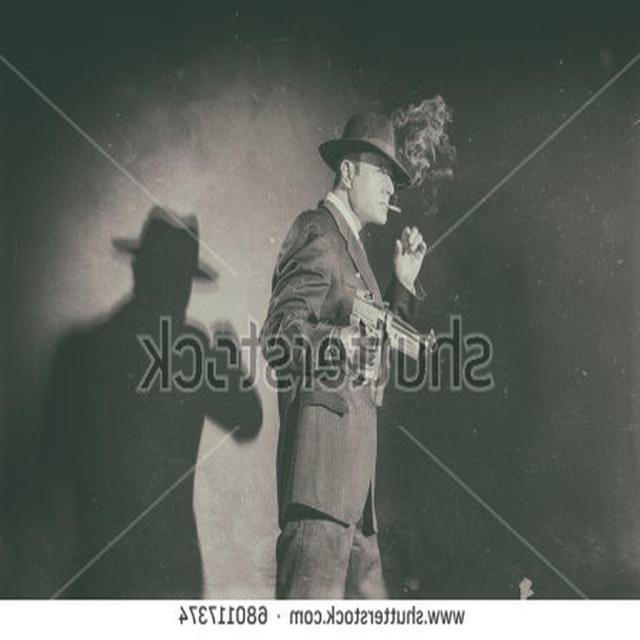smoking: (264, 100, 448, 324)
